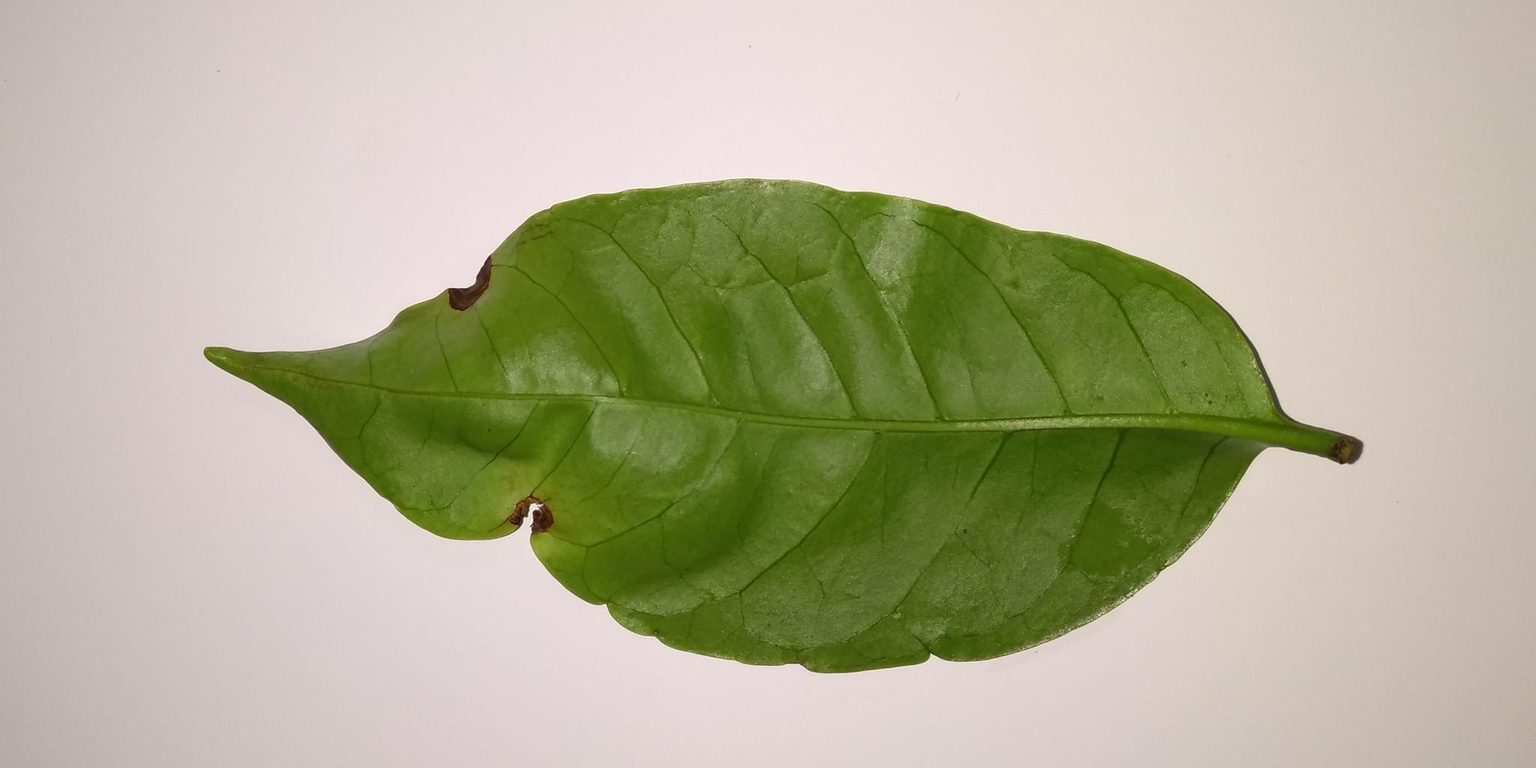Phoma: (434, 237, 506, 324)
